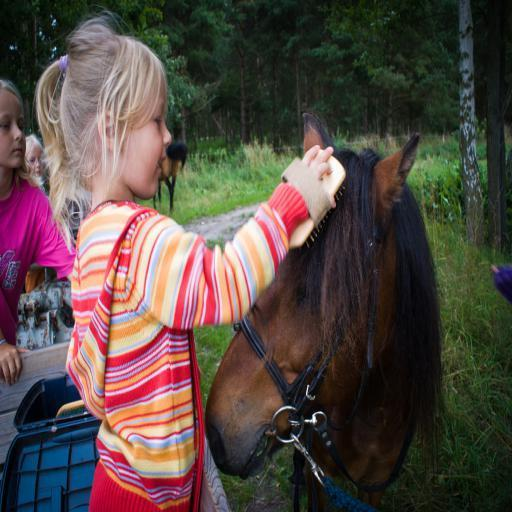horse: (204, 114, 454, 512)
